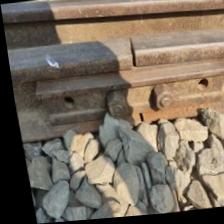person: (98, 28, 160, 81), (129, 114, 145, 128)
